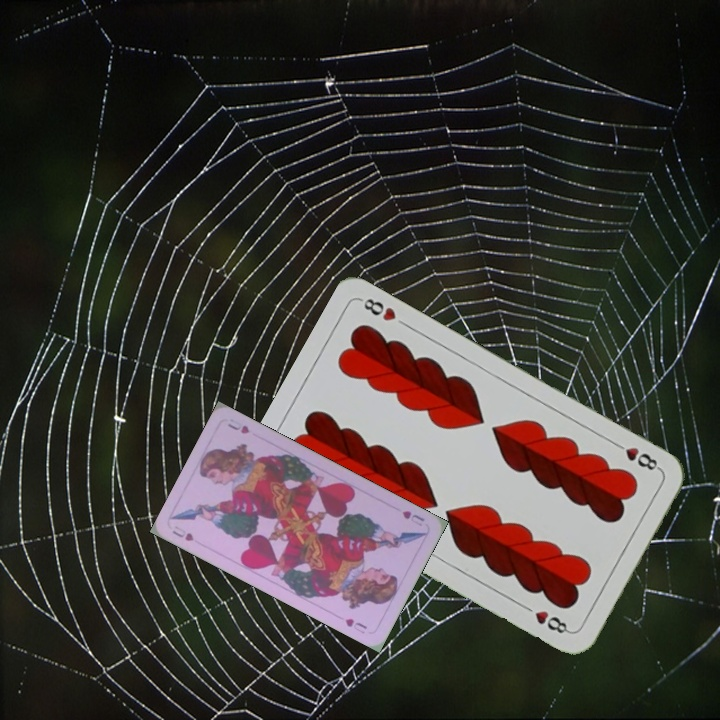H8: (609, 438, 663, 473)
HU: (398, 506, 427, 529), (168, 521, 197, 544)
